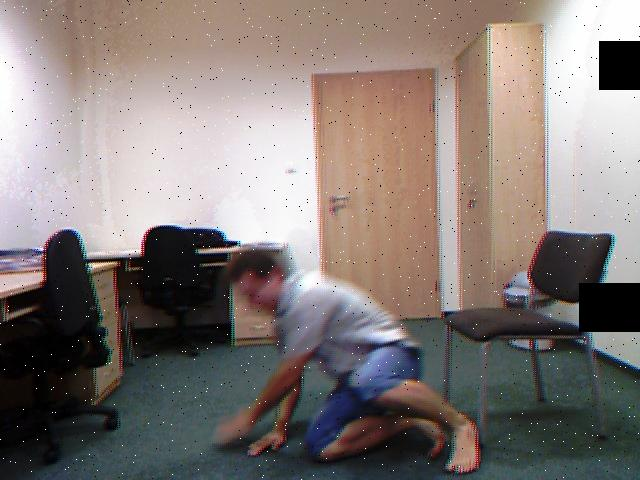fall: (219, 232, 484, 480)
